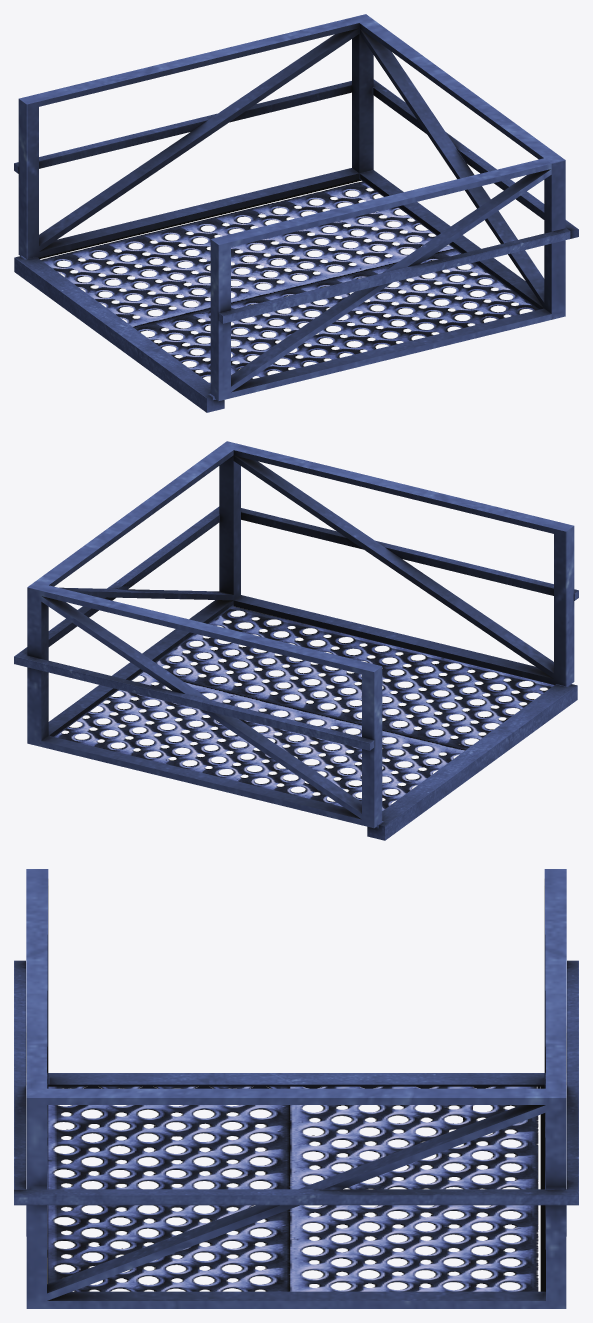
Rendered from WalkwayEnd.FBX.
3 views of the same model, one above another, from view 1: azimuth 30°, elevation 25°; view 2: azimuth 150°, elevation 25°; view 3: azimuth 270°, elevation 25° (orthographic). The views are drawn at different scales.
Parts seen in each view (by area): view 1: Box005, Object037; view 2: Box005, Object037; view 3: Box005, Object037.
Part boxes in pixels (bbox=[...]): Box005: bbox=[14, 14, 578, 400]; Object037: bbox=[14, 255, 224, 412]; Box005: bbox=[14, 441, 578, 828]; Object037: bbox=[367, 683, 577, 840]; Box005: bbox=[14, 869, 578, 1308]; Object037: bbox=[48, 1073, 544, 1088].
Size of the model in its own units: 160 by 70.97 by 159.
